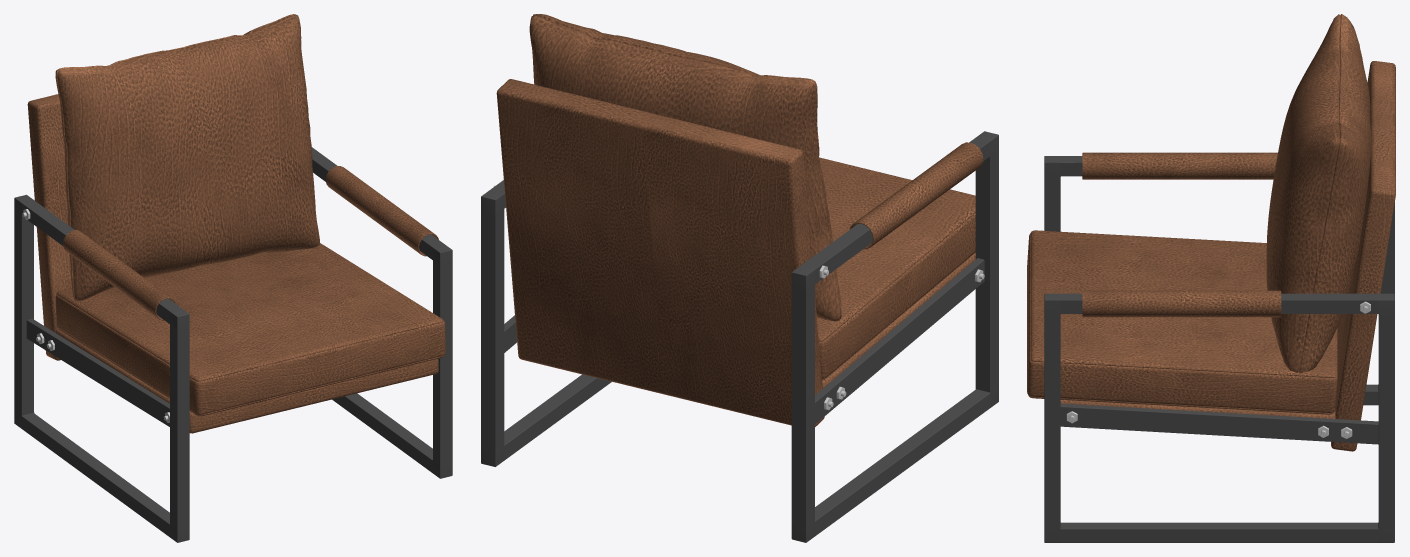
Rendered from square_single_leather_sofa.glb.
3 renders of one model, left to right at view 1: azimuth 30°, elevation 25°; view 2: azimuth 150°, elevation 25°; view 3: azimuth 270°, elevation 25°, orthographic. The views are drawn at different scales.
Parts seen in each view (by area): view 1: bantal, cushion duduk, frame.006, sandar, handle, base; view 2: sandar, frame.006, bantal, cushion duduk, handle, base; view 3: cushion duduk, frame.006, bantal, handle, sandar, base, Cylinder.083.
Boxes of the visible parts, x1,y1,x2,y2 form: bantal: (55,14,319,301); cushion duduk: (55,243,445,416); frame.006: (14,147,452,542); sandar: (27,94,71,360); handle: (63,166,438,320); base: (55,329,438,433); sandar: (496,79,824,426); frame.006: (481,131,998,542); bantal: (529,14,841,321); cushion duduk: (817,157,975,380); handle: (849,142,983,249); base: (822,253,975,388); cushion duduk: (1027,230,1337,414); frame.006: (1044,156,1394,542); bantal: (1266,14,1371,373); handle: (1082,152,1281,317); sandar: (1331,61,1395,451); base: (1060,400,1335,418); Cylinder.083: (1066,301,1370,438).
Size of the model in its own units: 0.9022 by 1.12 by 0.9429.
Materials: 3 (1 with a texture image).
